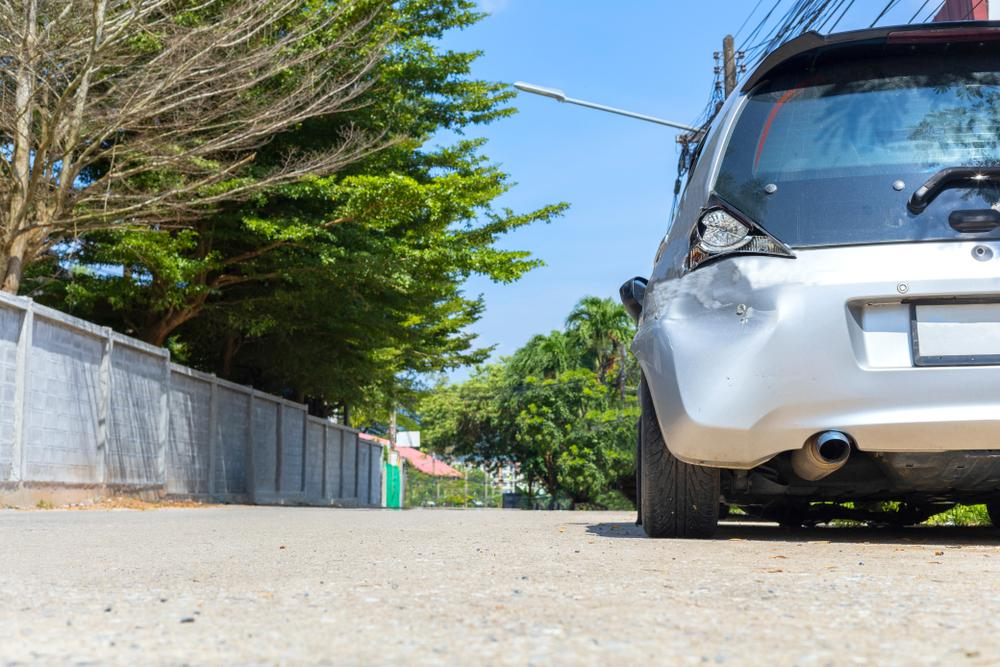dent: (658, 264, 779, 409)
lamp broken: (688, 205, 789, 266)
